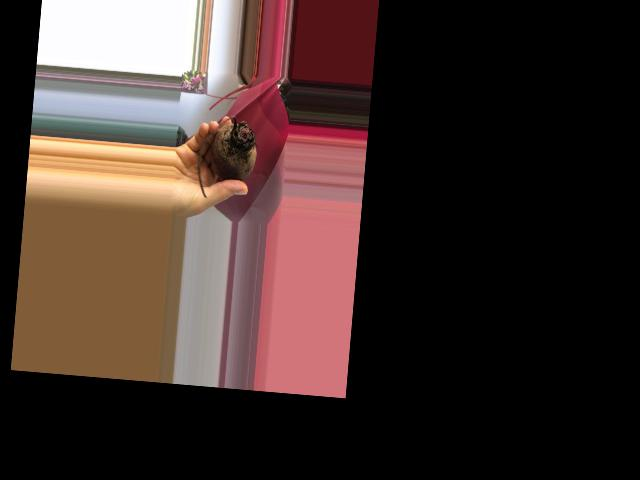beet: (195, 111, 259, 201)
